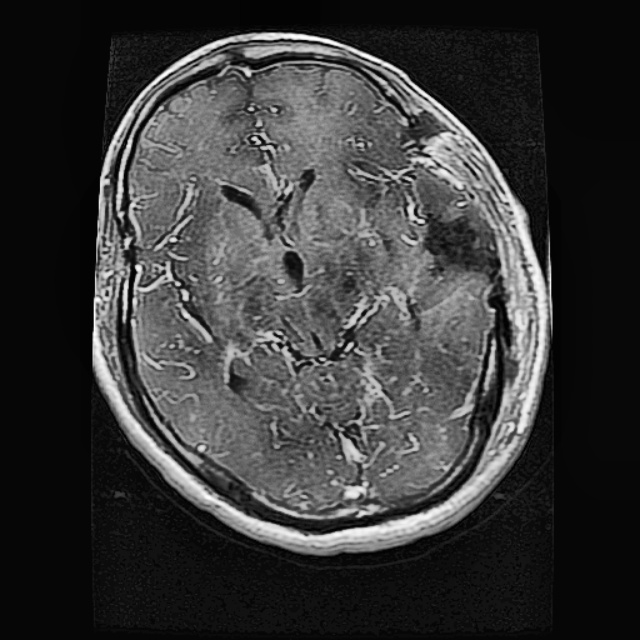Pituitary: (397, 157, 499, 290)
